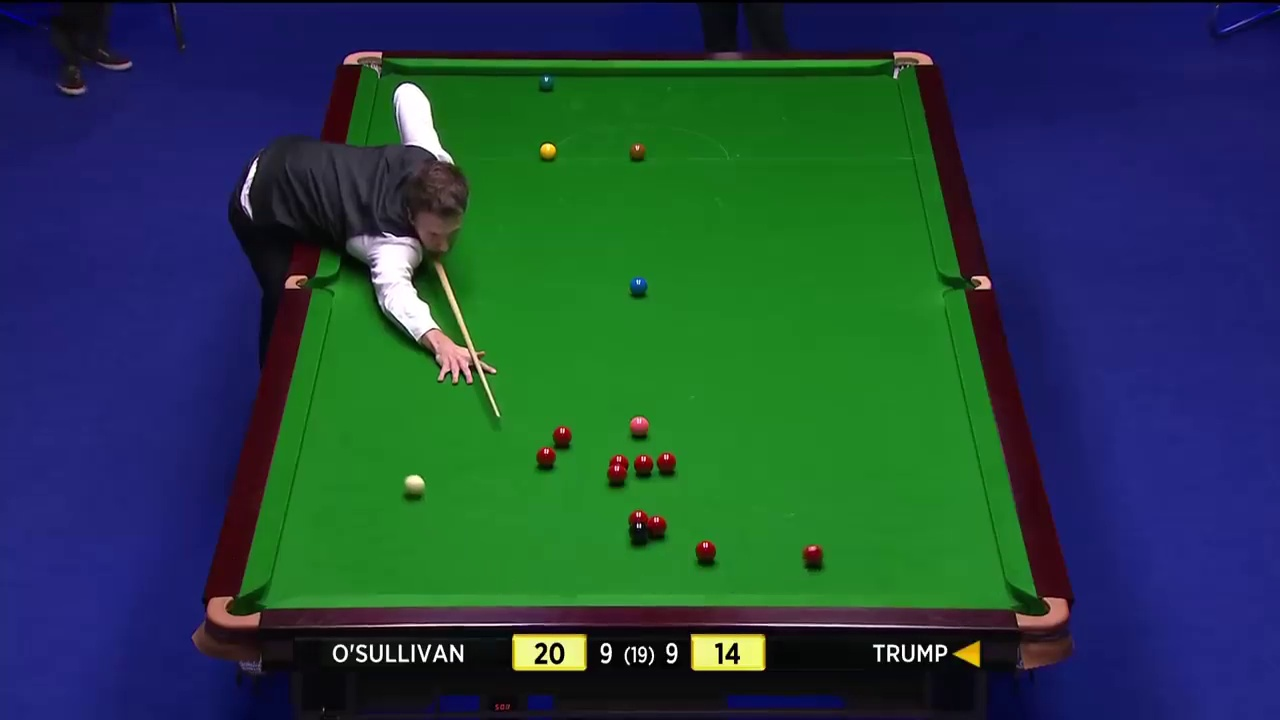ball: (696, 540, 717, 564), (656, 450, 677, 473), (552, 425, 571, 446), (536, 446, 554, 468), (537, 141, 556, 159), (628, 278, 646, 297), (536, 72, 553, 91), (629, 140, 646, 159), (631, 416, 648, 435)
